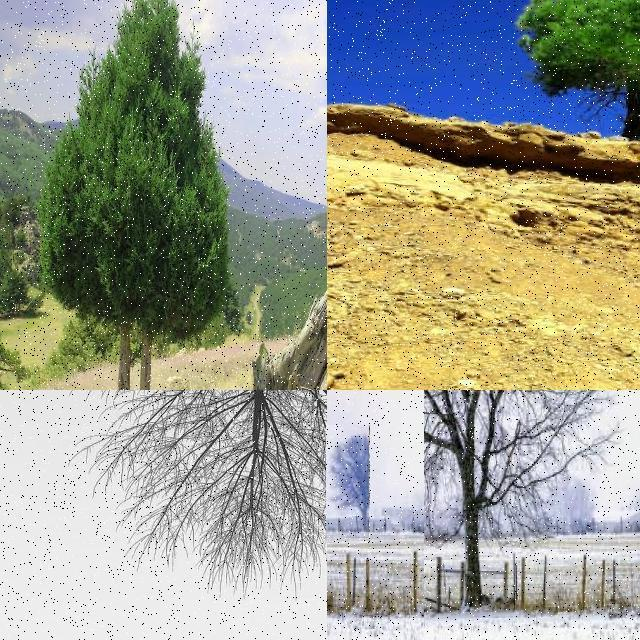tree: (38, 0, 228, 390), (51, 390, 327, 640), (424, 390, 640, 640), (520, 0, 640, 148), (276, 195, 328, 313), (326, 425, 370, 543), (0, 298, 26, 390), (0, 266, 29, 317), (0, 223, 17, 271)
